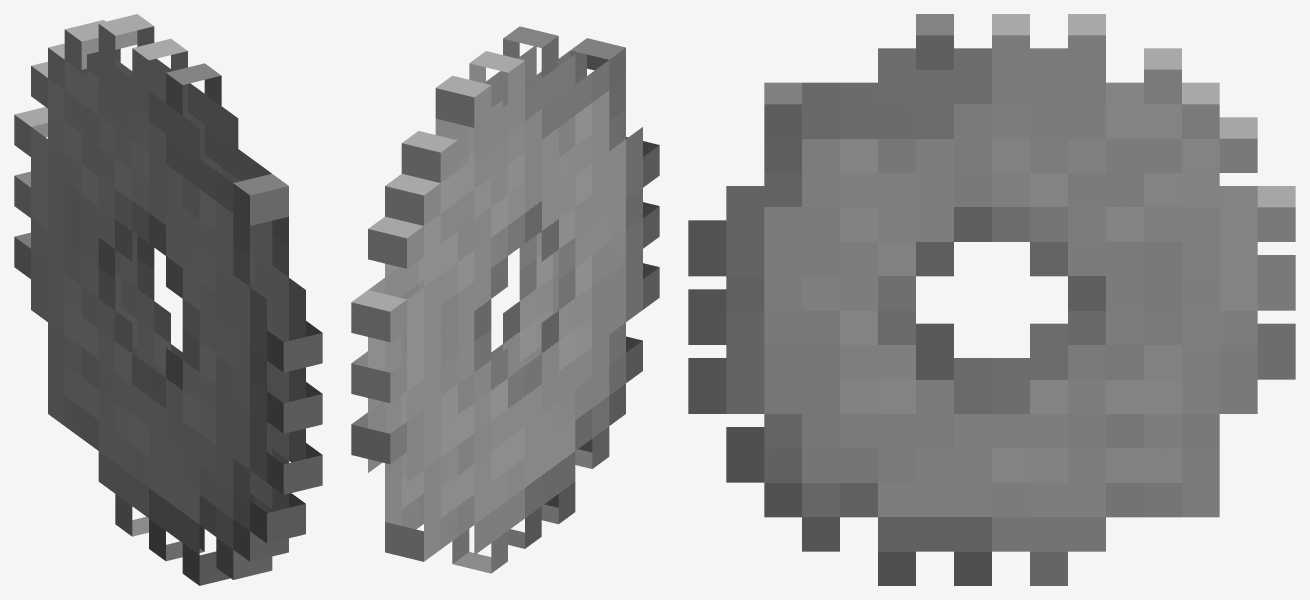
File: sawblade.obj
3 renders of one model, left to right at view 1: azimuth 30°, elevation 25°; view 2: azimuth 150°, elevation 25°; view 3: azimuth 270°, elevation 25°, orthographic. The views are drawn at different scales.
Visible parts, largest first — view 1: sawblade; view 2: sawblade; view 3: sawblade.
Boxes of the visible parts, <box> form: sawblade: <box>14,14,322,585</box>; sawblade: <box>351,26,659,573</box>; sawblade: <box>688,14,1295,585</box>.
Size of the model in its own units: 0.0625 by 0.75 by 0.75.
